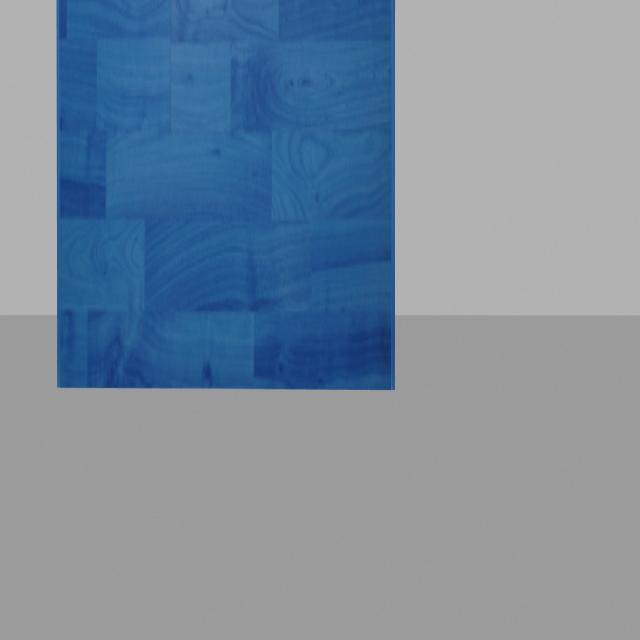shelf: (44, 0, 414, 450)
